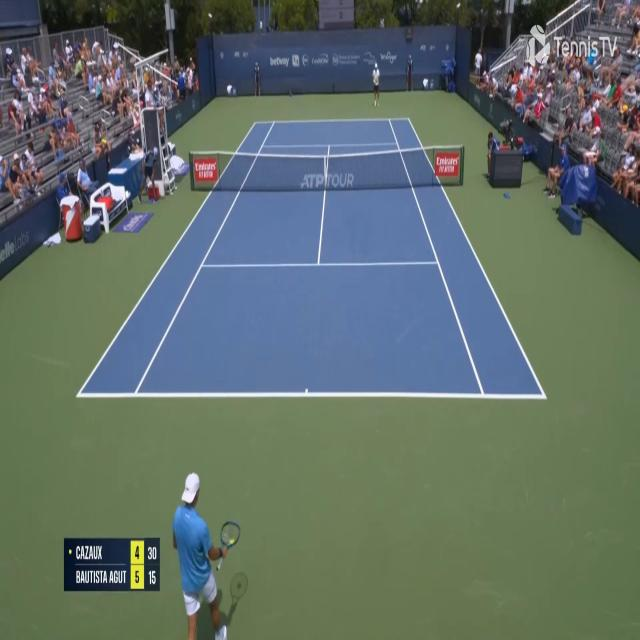tennis-player: (169, 466, 248, 640), (370, 61, 382, 108)
